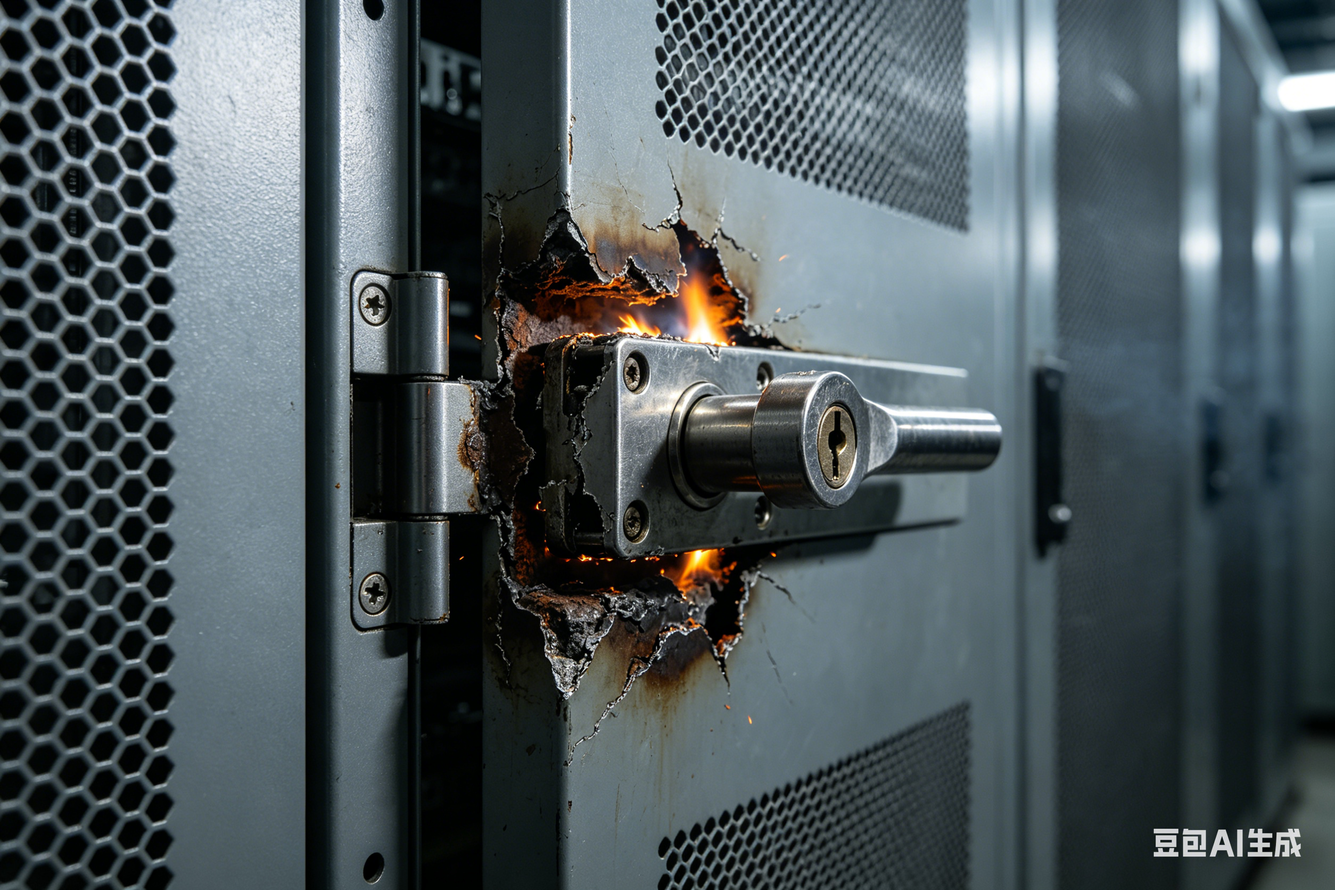BadLock: (449, 268, 656, 612)
